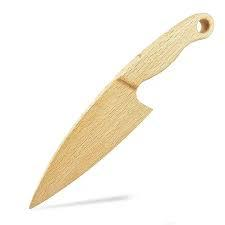Knife: (28, 11, 214, 209)
